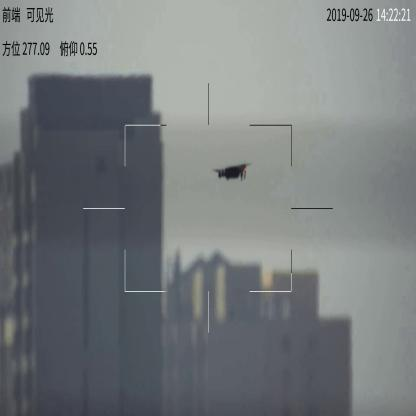uav: (210, 162, 250, 184)
